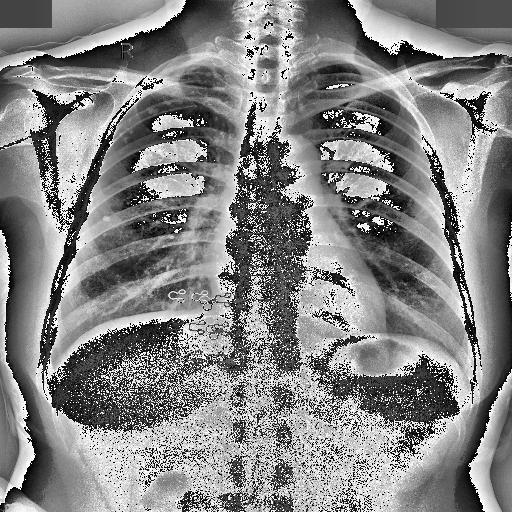0- Aortic enlargement: (272, 135, 323, 198)
10- Pleural effusion: (158, 62, 230, 74), (42, 344, 60, 380)
11- Pleural thickening: (42, 344, 60, 380), (310, 68, 320, 72)
13- Pulmonary fibrosis: (113, 70, 235, 190)
2- Calcification: (113, 70, 235, 190)
8- Nodule-Mass: (151, 155, 218, 194), (182, 64, 222, 122), (118, 102, 168, 146), (146, 106, 160, 114), (127, 118, 133, 134), (122, 136, 129, 144), (101, 215, 110, 221), (103, 214, 109, 222), (168, 235, 175, 240), (102, 233, 108, 237), (102, 232, 107, 236)
